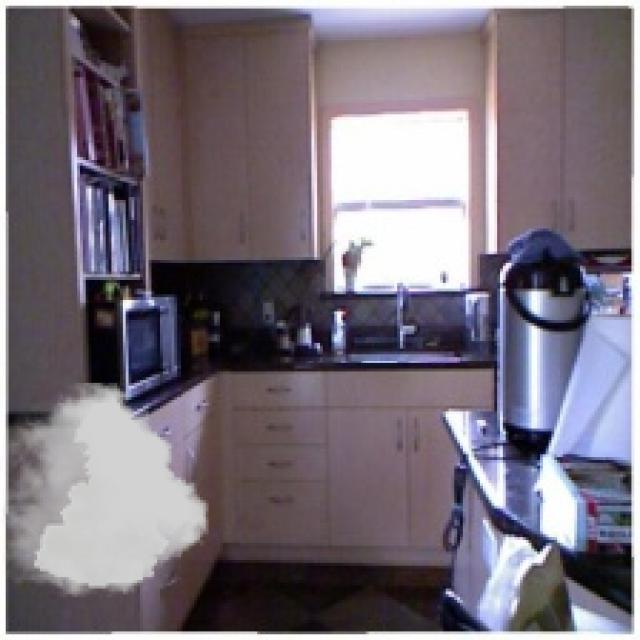Smoke: (2, 382, 208, 598)
